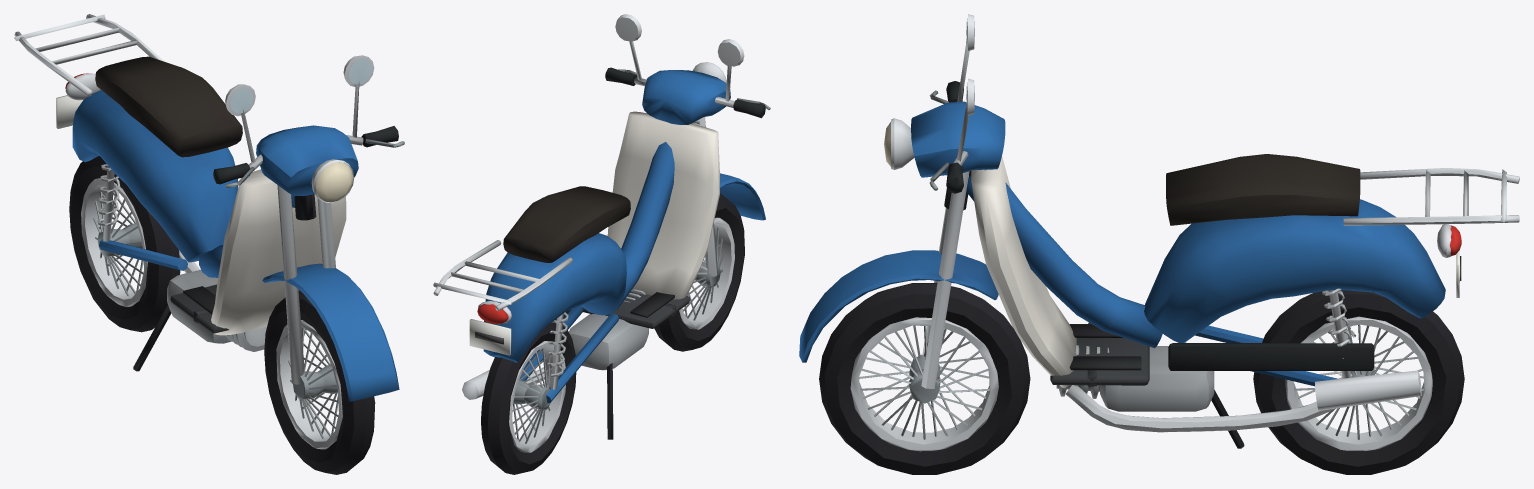
File: veh-cub.glb
3 renders of one model, left to right at view 1: azimuth 30°, elevation 25°; view 2: azimuth 150°, elevation 25°; view 3: azimuth 270°, elevation 25°, orthographic. The views are drawn at different scales.
Parts seen in each view (by area): view 1: body, wheel0, wheel1; view 2: body, wheel1, wheel0; view 3: body, wheel0, wheel1.
Part boxes in pixels (x1,y1,x2,y2): body: (14, 14, 404, 401); wheel0: (264, 290, 375, 474); wheel1: (69, 156, 180, 332); body: (433, 14, 770, 439); wheel1: (481, 319, 576, 474); wheel0: (654, 193, 744, 351); body: (799, 14, 1519, 448); wheel0: (819, 283, 1030, 474); wheel1: (1253, 290, 1464, 474).
Size of the model in its own units: 0.61 by 1.23 by 1.89.
